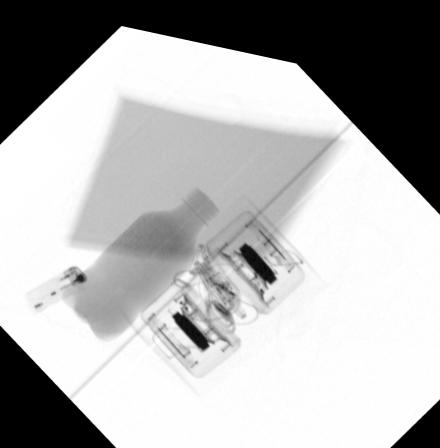Lighter: (23, 262, 86, 311)
